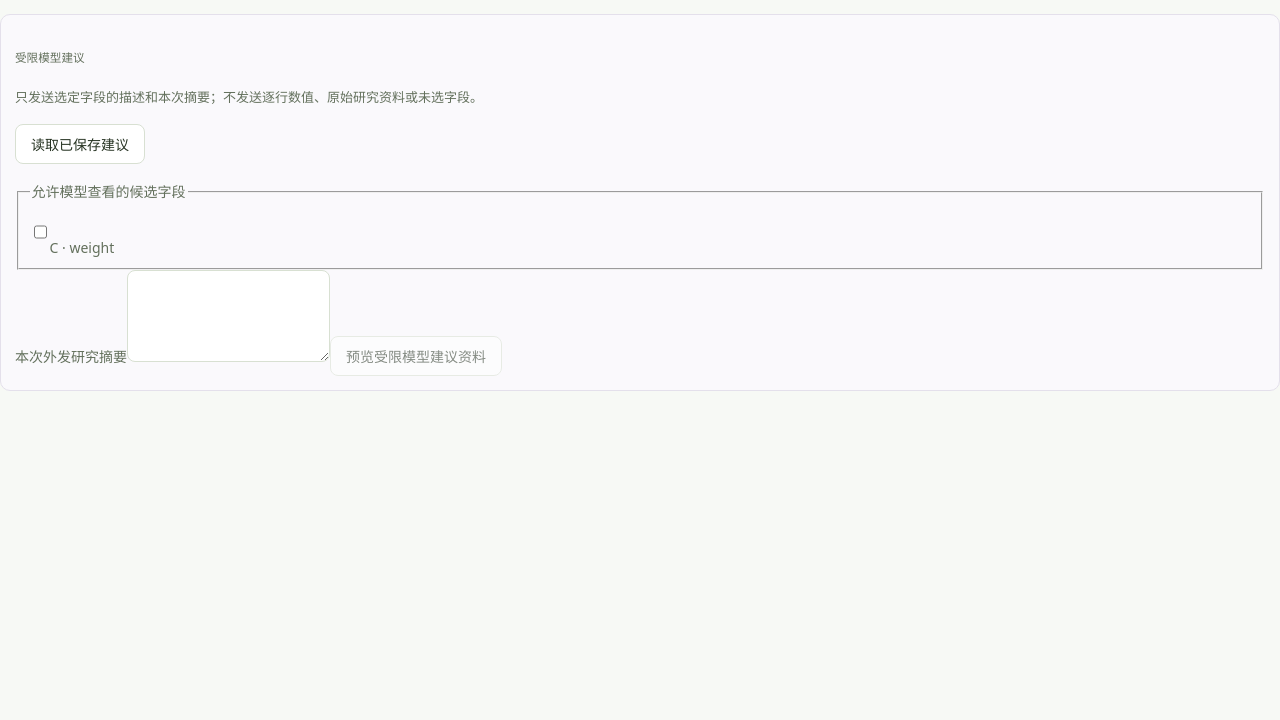
a known unknown provider submission blocks a second recommendation preview
This screenshot has width=1280, height=720.
Click the checkbox named "候选字段 C · weight": {"x": 40, "y": 232} [34,211,46,253]
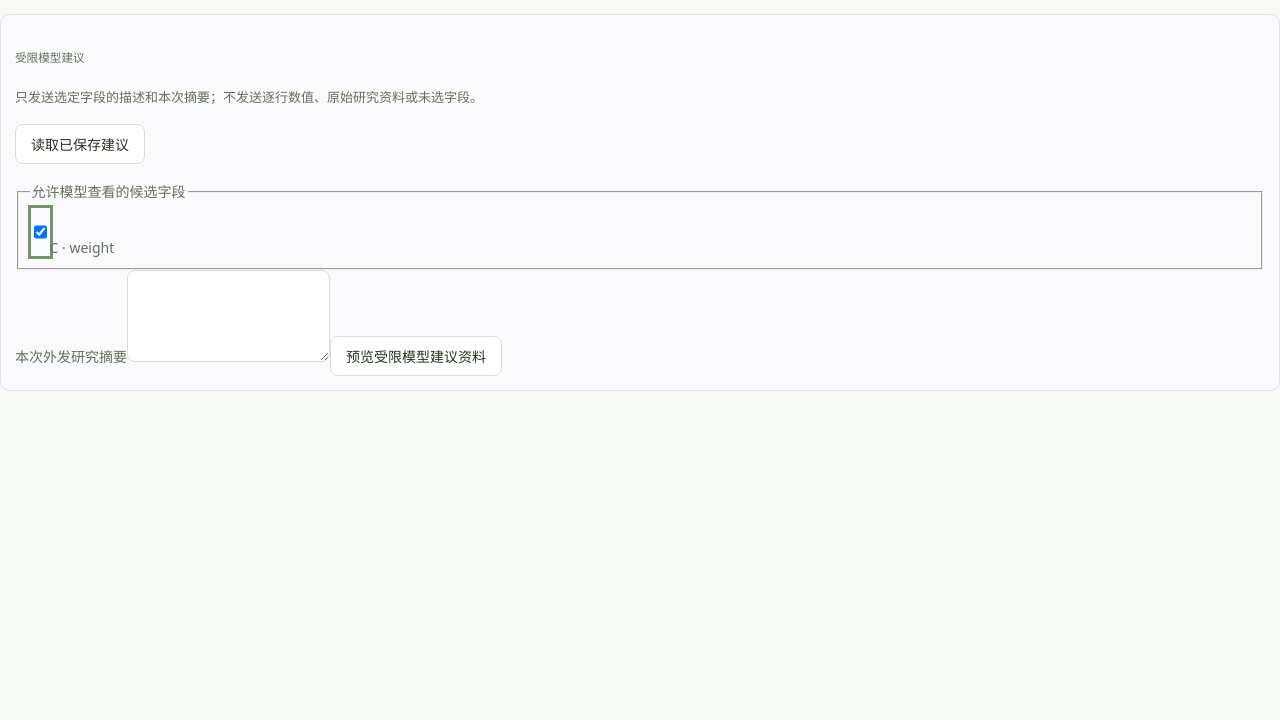
Click the button "预览受限模型建议资料": {"x": 416, "y": 356} [330,336,502,376]
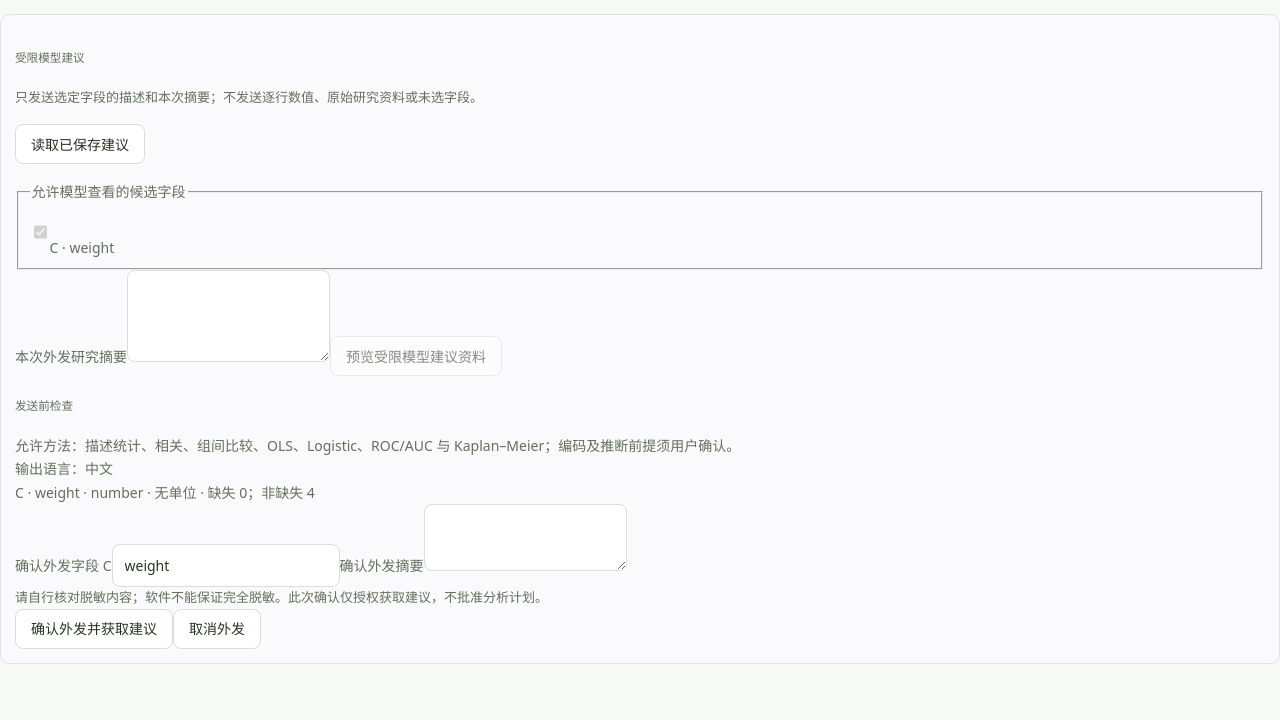
Click the button "确认外发并获取建议": {"x": 94, "y": 629} [15,609,173,649]
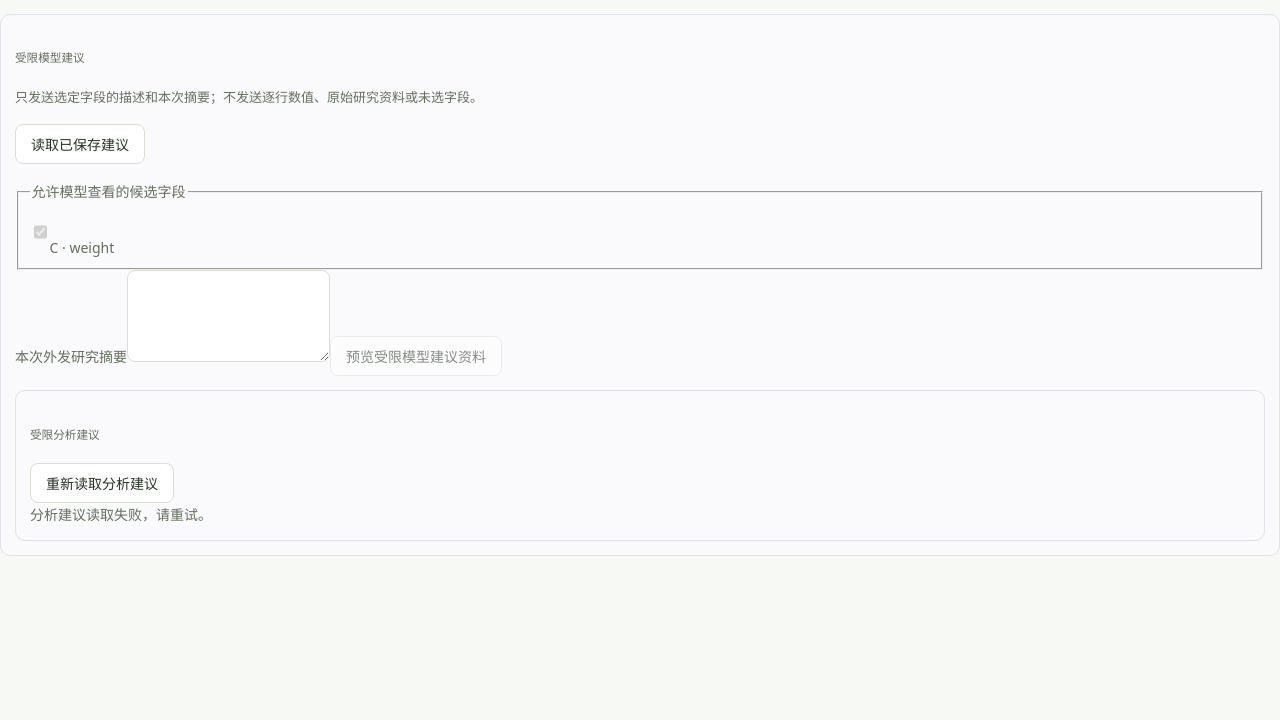
Result: the button "预览受限模型建议资料" is disabled at [330,336,502,376]
Result: the button "确认外发并获取建议" is gone
